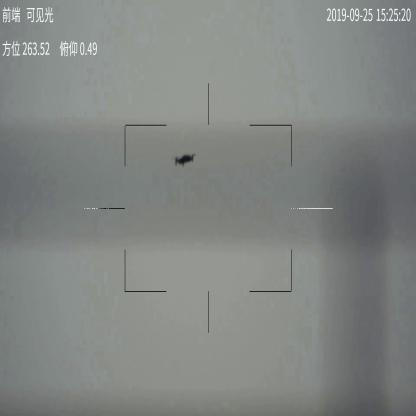uav: (174, 153, 195, 166)
